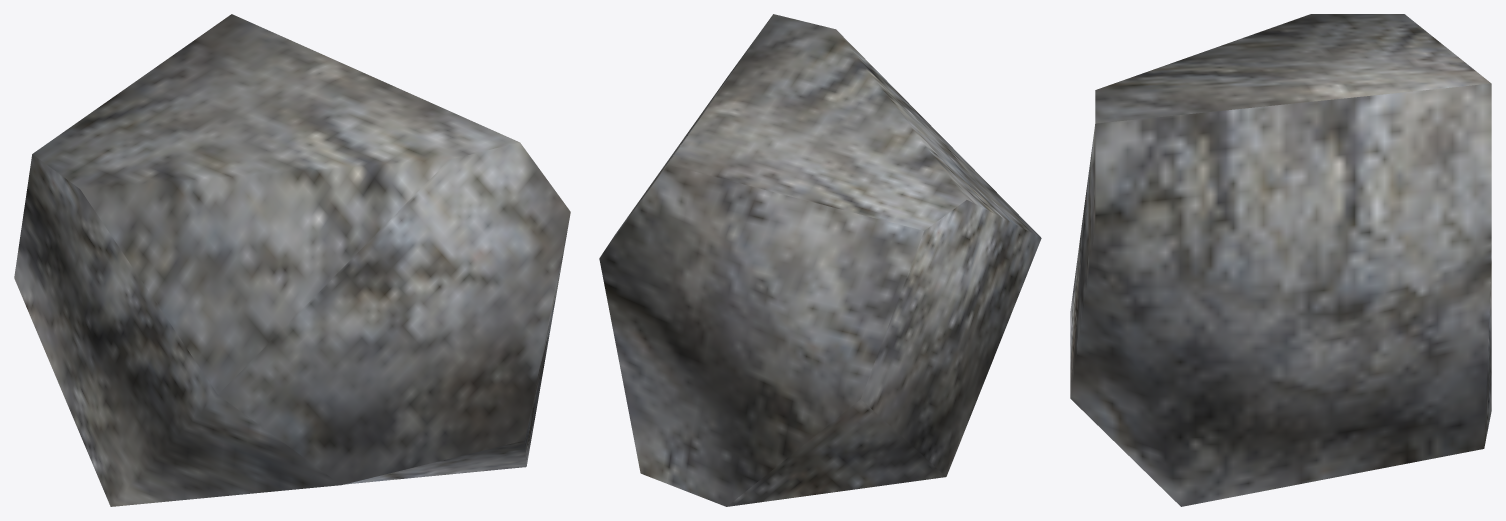
File: Rock_01.fbx
3 views of the same model, side by side, from view 1: azimuth 30°, elevation 25°; view 2: azimuth 150°, elevation 25°; view 3: azimuth 270°, elevation 25° (orthographic). The views are drawn at different scales.
Parts seen in each view (by area): view 1: Rock_01; view 2: Rock_01; view 3: Rock_01.
Part boxes in pixels (left/top/right/bottom): Rock_01: left=14, top=14, right=570, bottom=506; Rock_01: left=599, top=14, right=1041, bottom=506; Rock_01: left=1070, top=14, right=1491, bottom=506.
Size of the model in its own units: 98.25 by 91.33 by 97.05.
